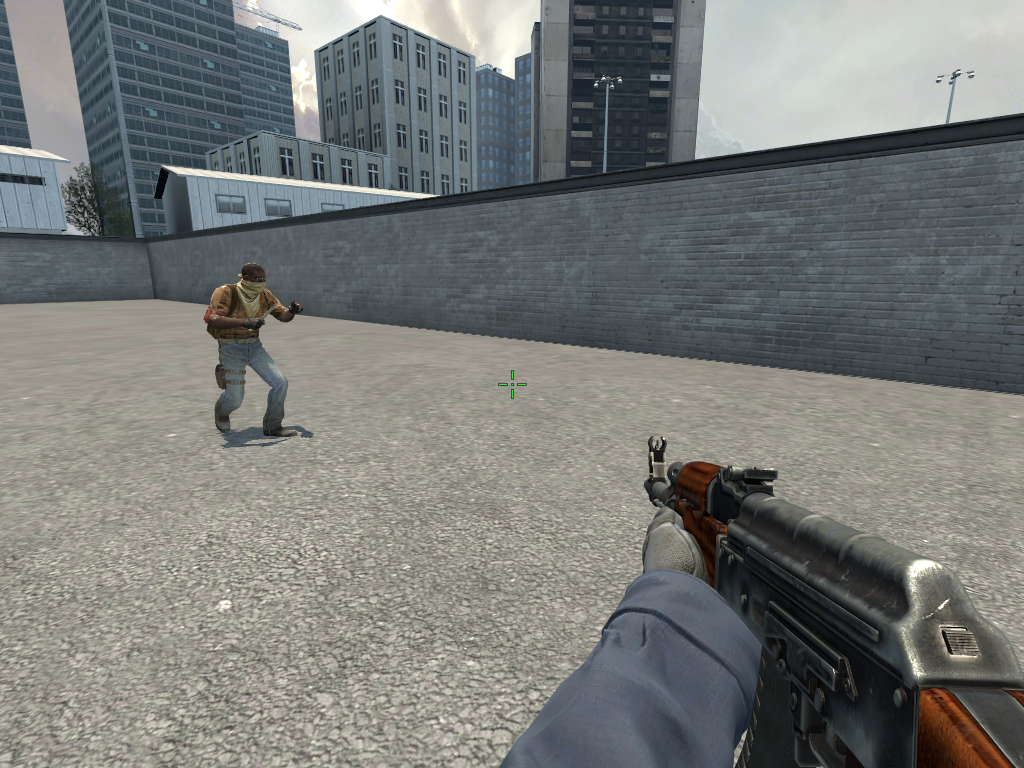tr head: (237, 259, 272, 295)
